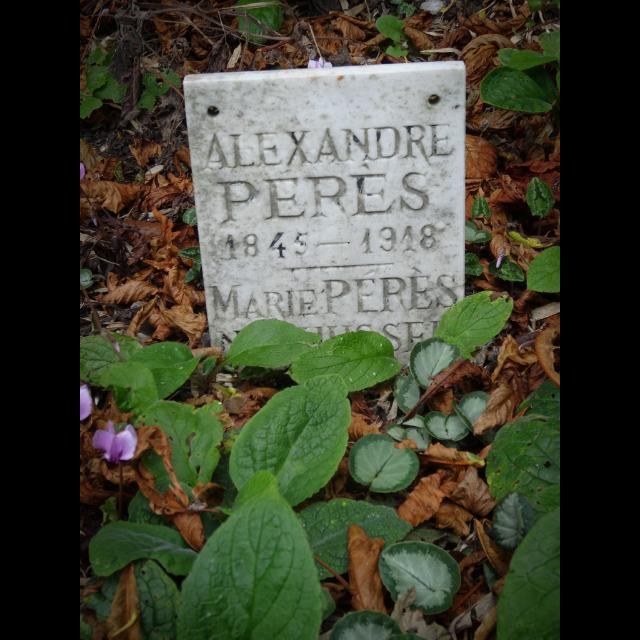Flower: (86, 414, 136, 470), (80, 384, 102, 424)
